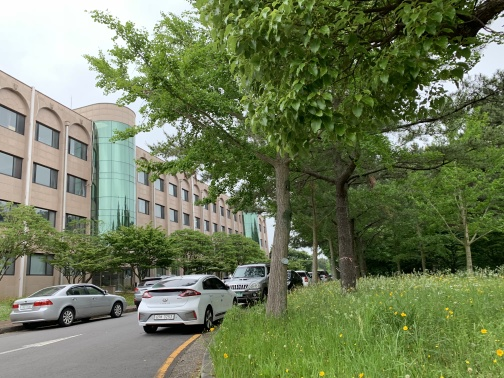Natural Science2: (3, 70, 271, 242)
